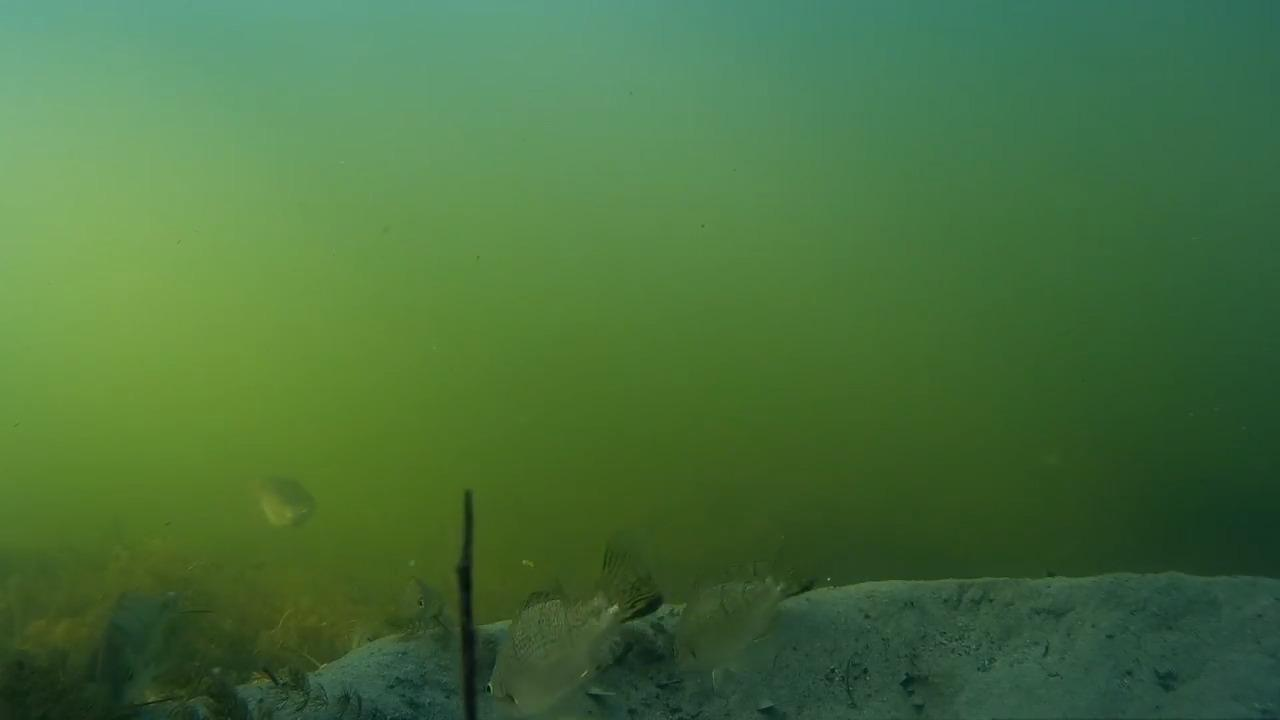Tilapia: (460, 541, 672, 716), (650, 546, 821, 704), (89, 572, 201, 712), (242, 454, 335, 538), (383, 562, 452, 646)
